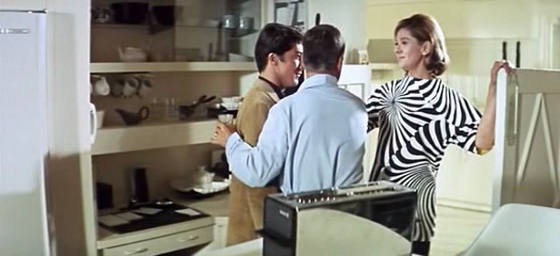face: (284, 46, 305, 86), (394, 30, 415, 68)
ms: (1, 1, 560, 256)
person: (364, 14, 513, 255), (209, 25, 369, 194), (225, 22, 306, 248)
